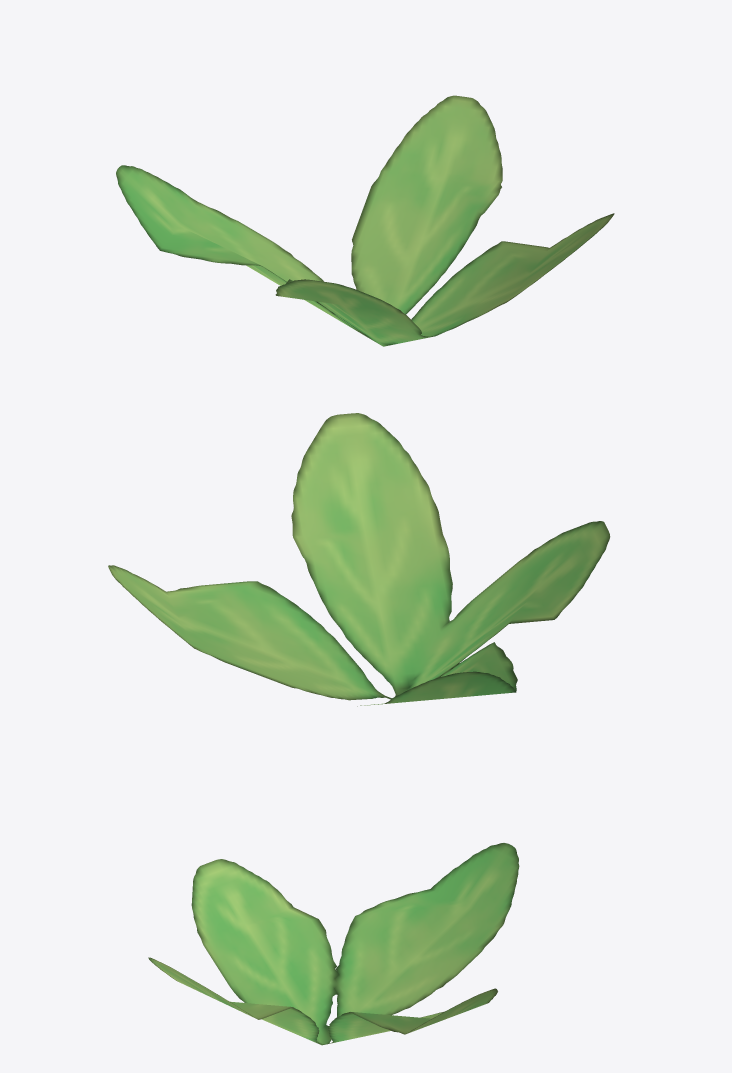
The model's file is LeafSetE_2.fbx.
3 views of the same model, one above another, from view 1: azimuth 30°, elevation 25°; view 2: azimuth 150°, elevation 25°; view 3: azimuth 270°, elevation 25° (orthographic). The views are drawn at different scales.
Visible parts, largest first — view 1: LeafSetE_2; view 2: LeafSetE_2; view 3: LeafSetE_2.
Part boxes in pixels (box(x1,y1,x2,y2)): LeafSetE_2: box(116, 95, 614, 346); LeafSetE_2: box(108, 413, 610, 706); LeafSetE_2: box(148, 843, 519, 1045).
Size of the model in its own units: 0.471 by 0.1142 by 0.473.
